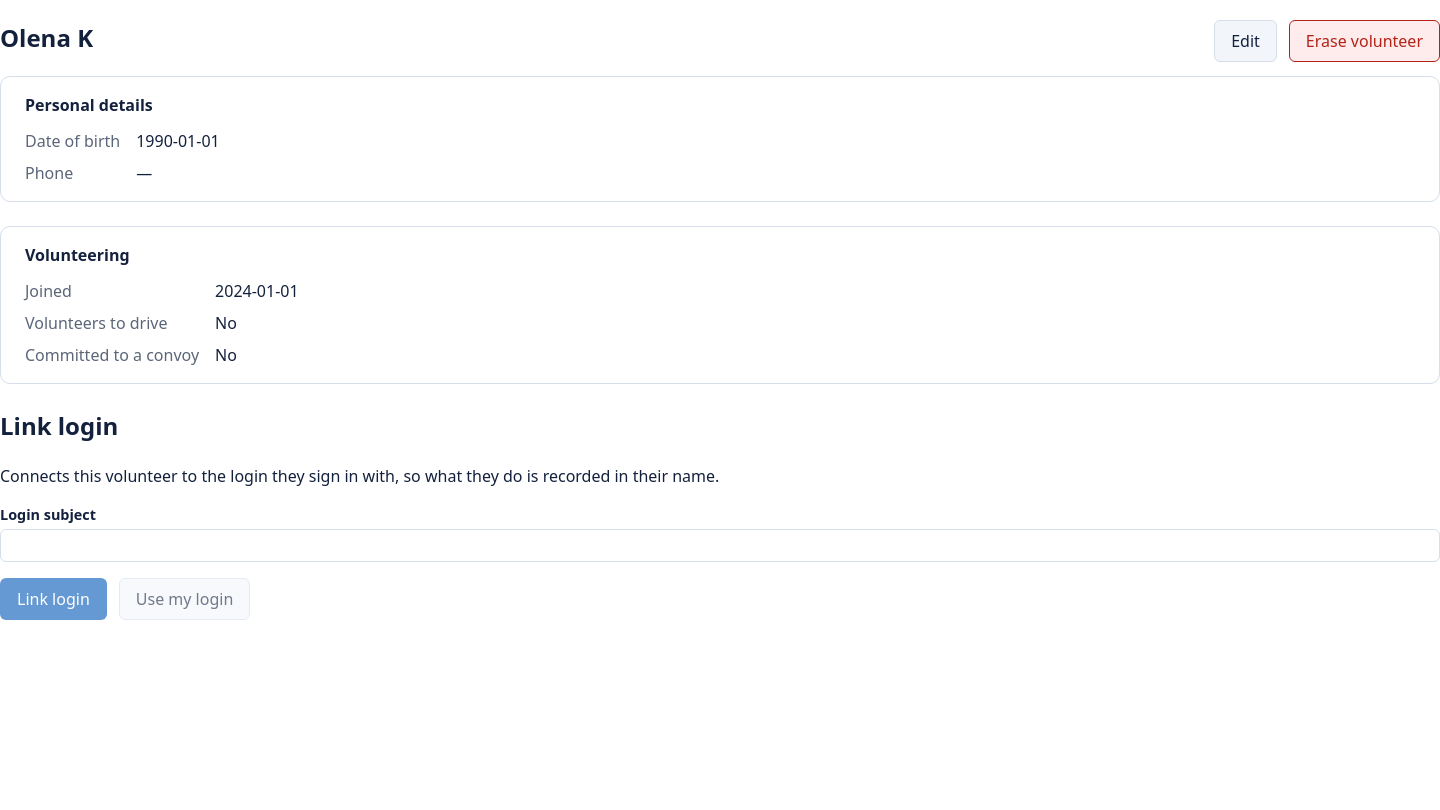
an administrator erases a volunteer after confirming, and returns to the list
What coordinates should you click on to do the following:
click the button "Erase volunteer"
I would click on:
 (1364, 41)
Its box is [1289,20,1439,62].
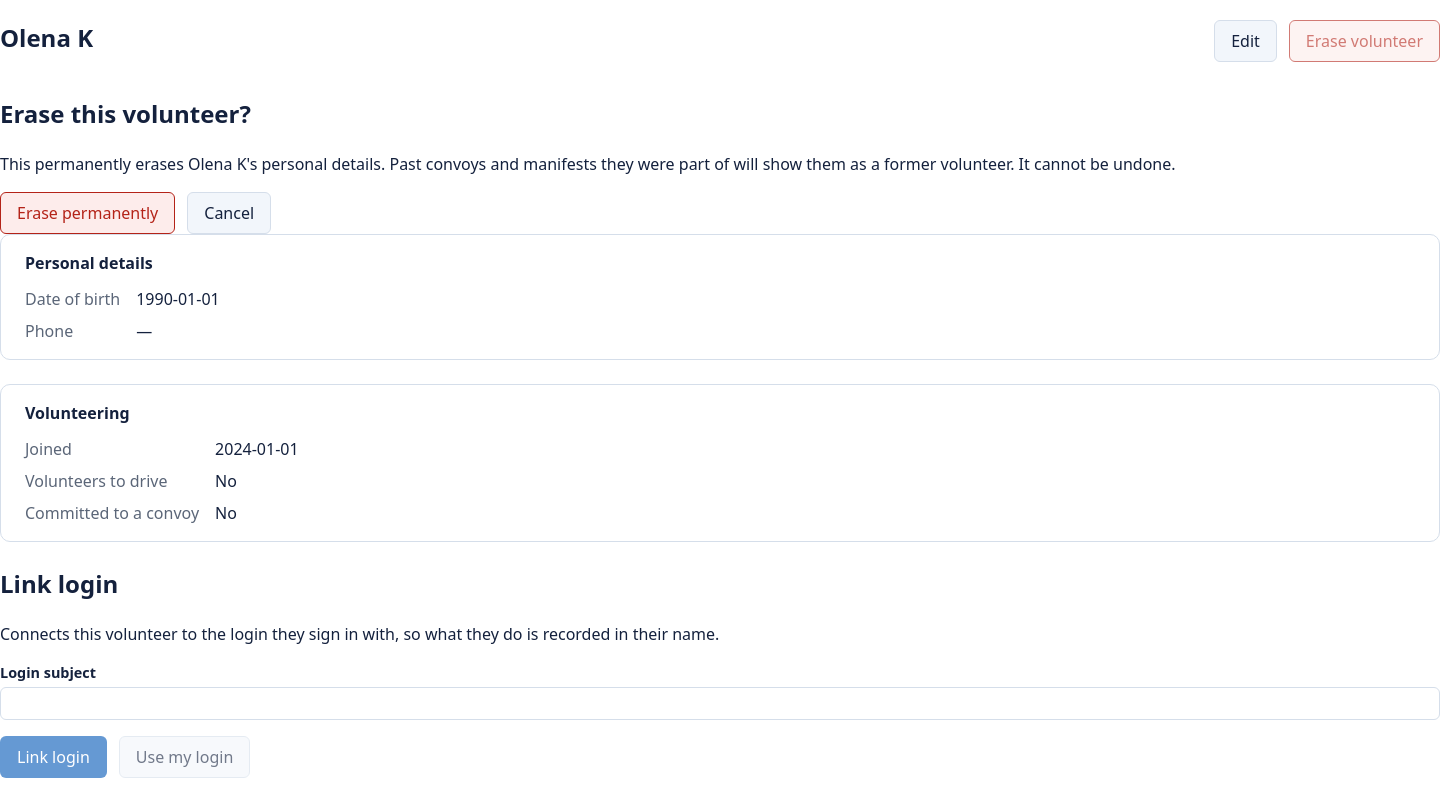
Expected: the dialog shows "permanently erases Olena K's personal details", [0,97,1176,234]
What coordinates should you click on to do the following:
click the button "Erase permanently"
I would click on:
 (88, 213)
Its box is [0,192,175,234].
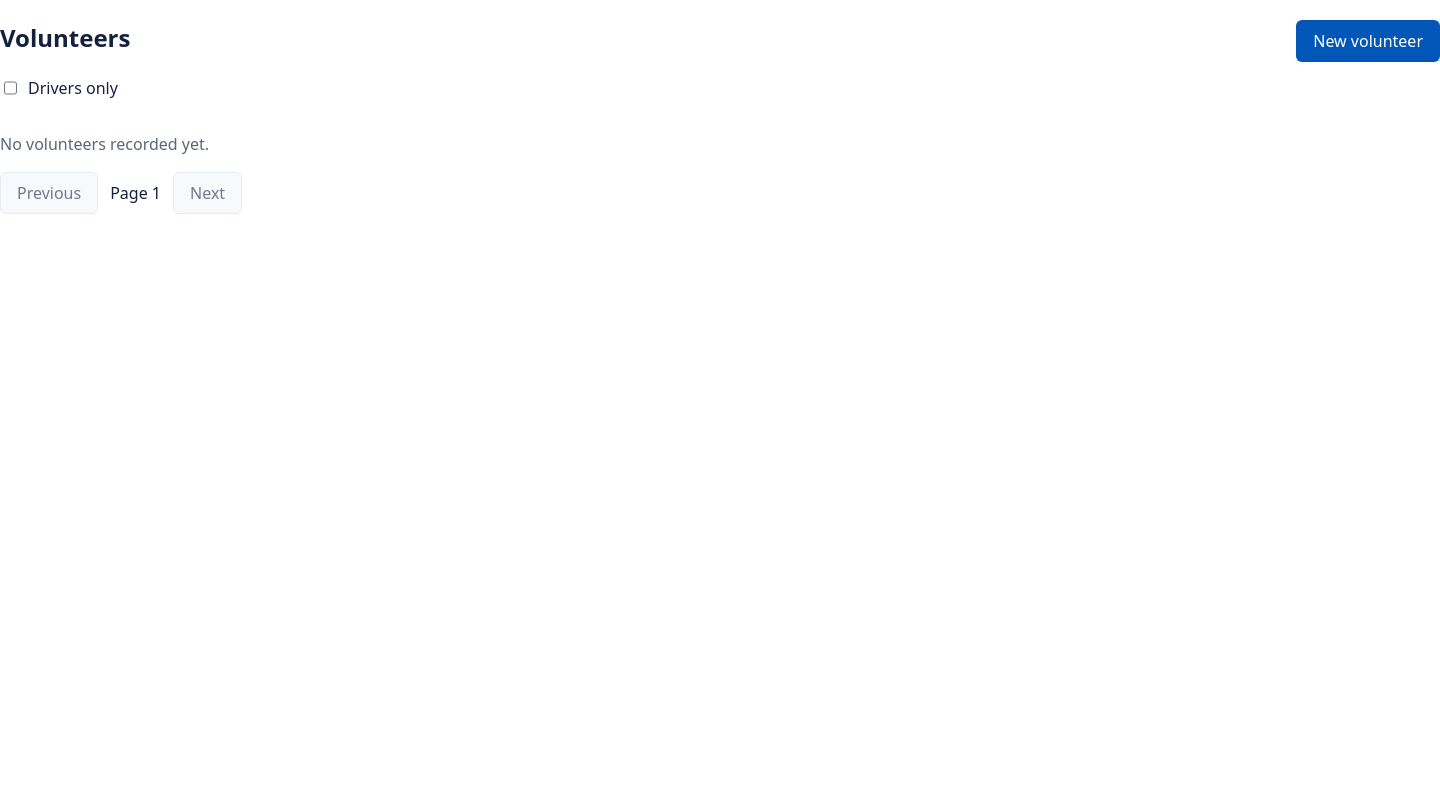
Expected: the heading "Volunteers" is shown, [0,20,130,56]
